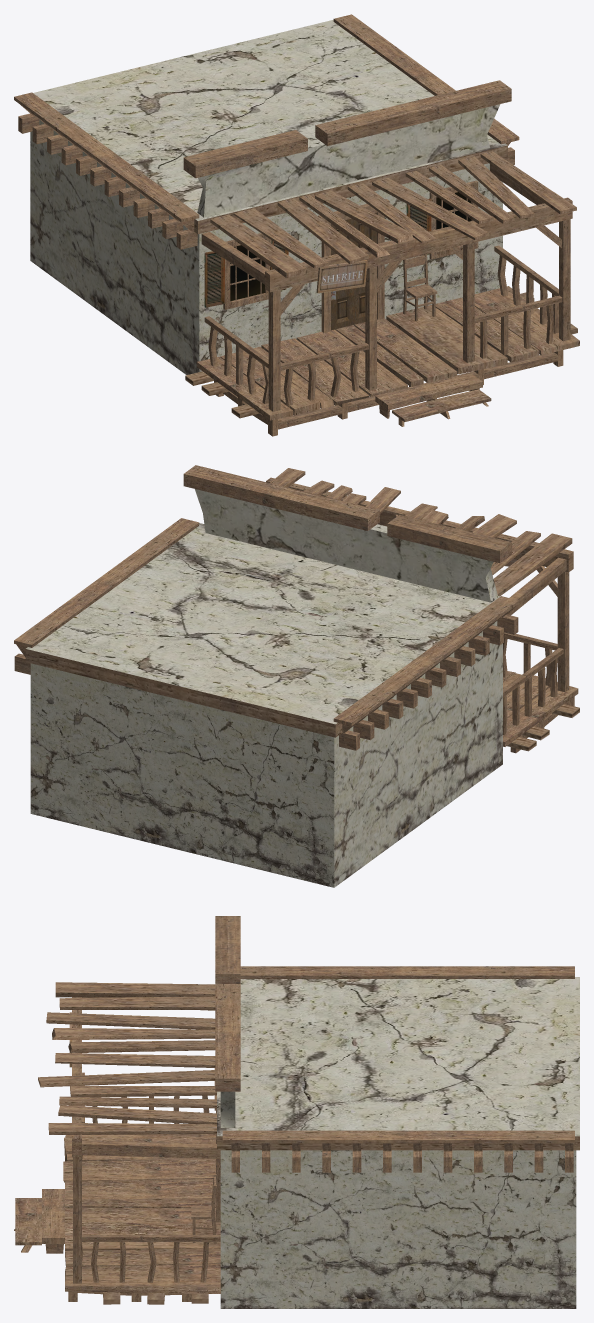
The model's file is oficina_sheriff.glb.
The picture shows the model from 3 angles, top to bottom: view 1: azimuth 30°, elevation 25°; view 2: azimuth 150°, elevation 25°; view 3: azimuth 270°, elevation 25°; orthographic projection. The views are drawn at different scales.
Visible parts, largest first — view 1: SheriffsOfficeCombined_SheriffOffice_sheriffOffice_d_0; view 2: SheriffsOfficeCombined_SheriffOffice_sheriffOffice_d_0; view 3: SheriffsOfficeCombined_SheriffOffice_sheriffOffice_d_0.
Boxes of the visible parts, bbox=[...] form: SheriffsOfficeCombined_SheriffOffice_sheriffOffice_d_0: bbox=[14, 14, 579, 436]; SheriffsOfficeCombined_SheriffOffice_sheriffOffice_d_0: bbox=[14, 465, 579, 887]; SheriffsOfficeCombined_SheriffOffice_sheriffOffice_d_0: bbox=[14, 916, 579, 1308].
Bounding box in the file's own units: 688 × 425 × 933.
Materials: 1 (1 with a texture image).
